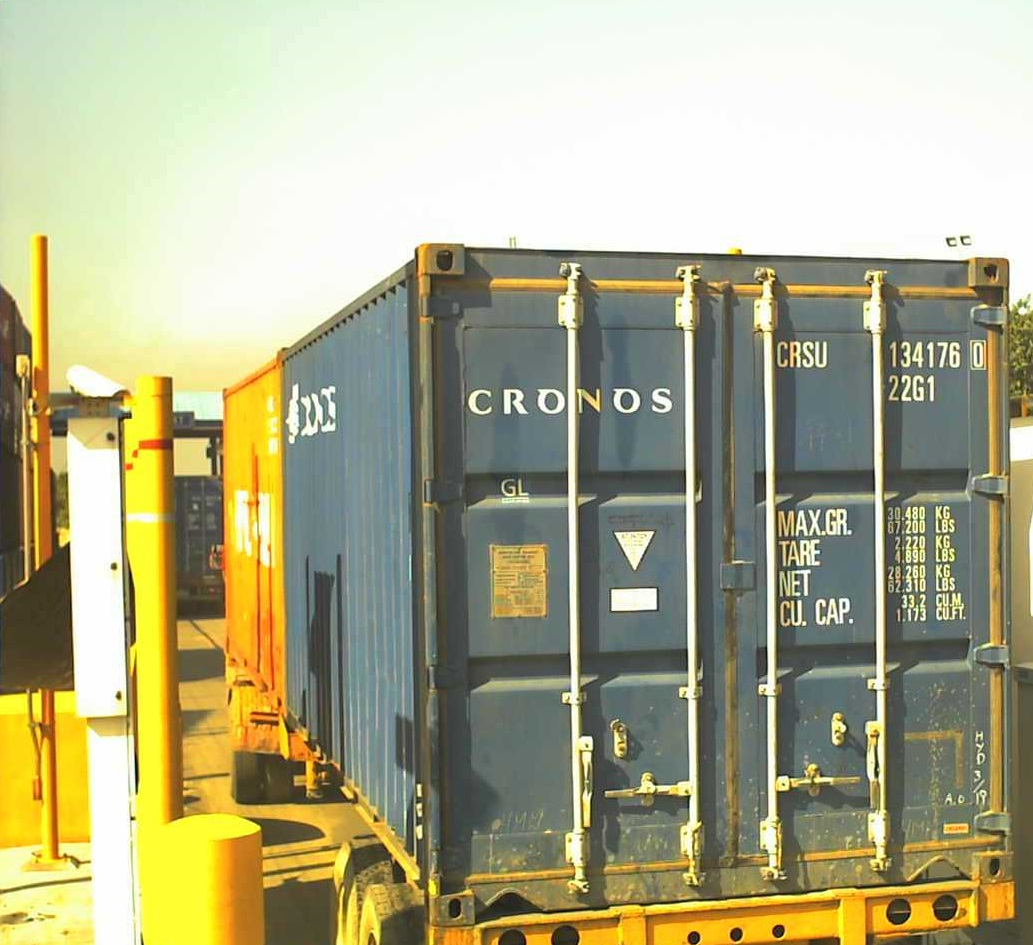container_door: (414, 239, 1009, 907)
